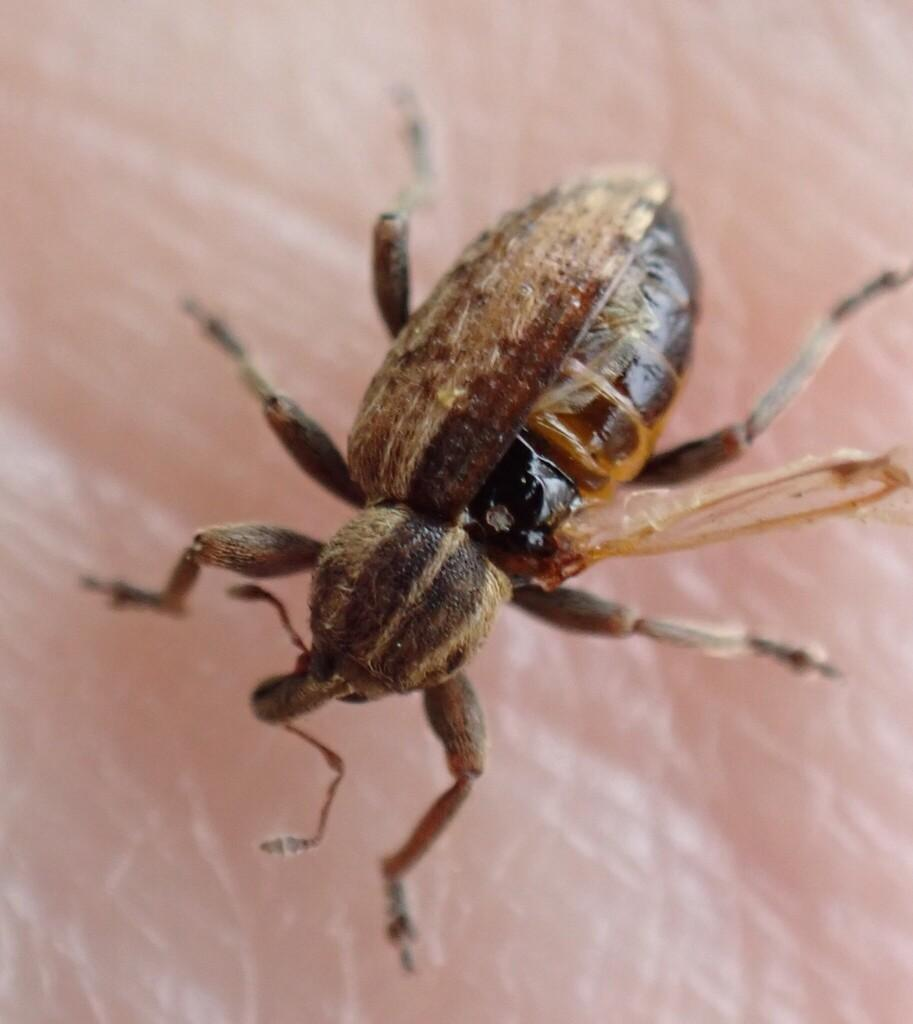weevils: (4, 21, 913, 1024)
